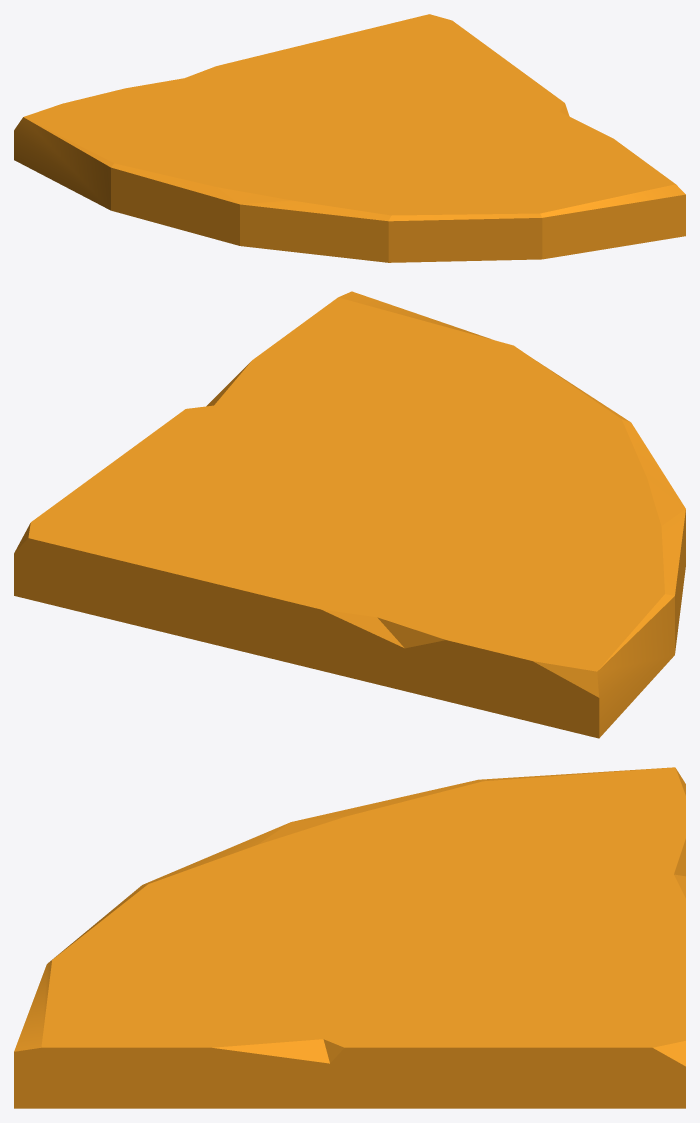
The model's file is SM_Buildings_FloorCurved_1x1_01P.fbx.
3 renders of one model, top to bottom at view 1: azimuth 30°, elevation 25°; view 2: azimuth 150°, elevation 25°; view 3: azimuth 270°, elevation 25°, orthographic. The views are drawn at different scales.
Parts seen in each view (by area): view 1: SM_Buildings_FloorCurved_1x1_01P; view 2: SM_Buildings_FloorCurved_1x1_01P; view 3: SM_Buildings_FloorCurved_1x1_01P.
Part boxes in pixels (x1,y1,x2,y2): SM_Buildings_FloorCurved_1x1_01P: (14, 14, 685, 262); SM_Buildings_FloorCurved_1x1_01P: (14, 291, 685, 738); SM_Buildings_FloorCurved_1x1_01P: (14, 767, 685, 1108).
Size of the model in its own units: 100 by 10 by 100.
